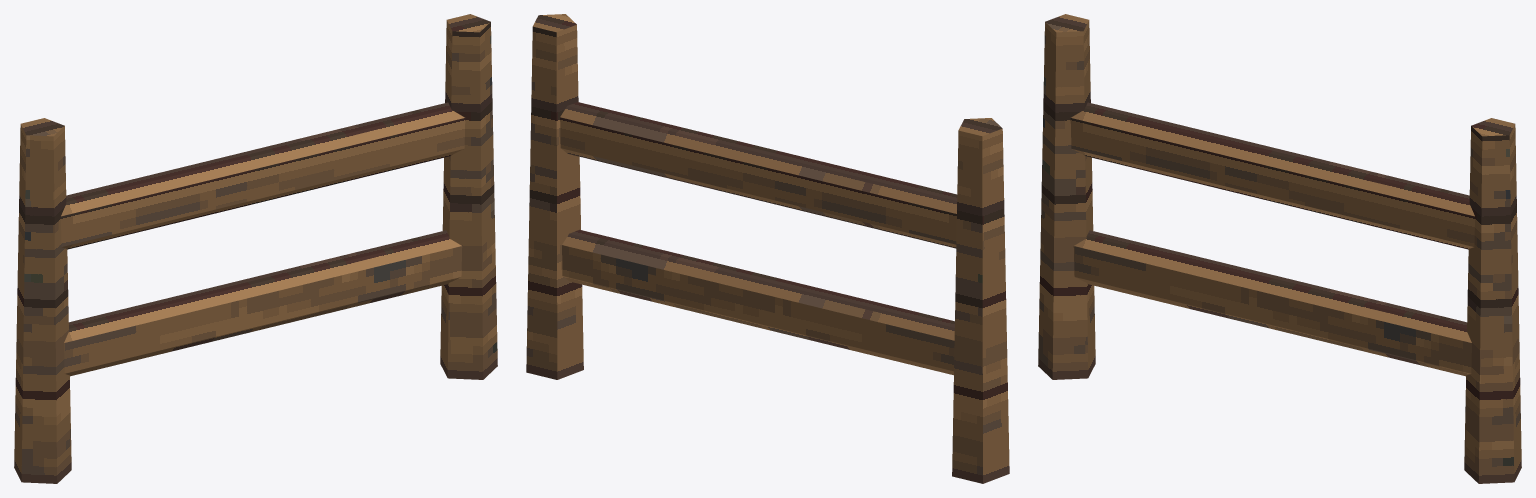
Rendered from enfeite_cerca.glb.
3 renders of one model, left to right at view 1: azimuth 30°, elevation 25°; view 2: azimuth 150°, elevation 25°; view 3: azimuth 330°, elevation 25°, orthographic.
Visible parts, largest first — view 1: pedreira_enfeite_cerca; view 2: pedreira_enfeite_cerca; view 3: pedreira_enfeite_cerca.
Part boxes in pixels (x1,y1,x2,y2): pedreira_enfeite_cerca: (14,14,497,483); pedreira_enfeite_cerca: (526,14,1009,483); pedreira_enfeite_cerca: (1038,14,1521,483).
Size of the model in its own units: 0.9389 by 0.65 by 0.0941.
Materials: 1 (1 with a texture image).
